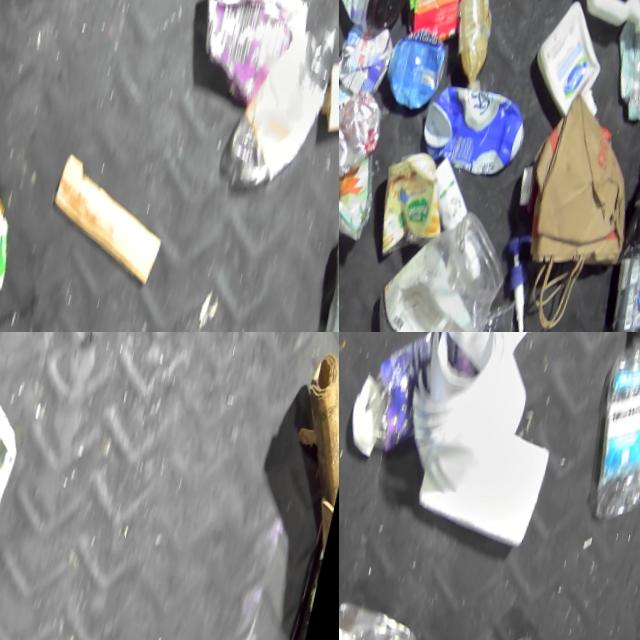can: (381, 25, 452, 116), (339, 88, 388, 181), (339, 47, 390, 99), (320, 224, 339, 332), (498, 627, 570, 640)
milk_jug: (394, 332, 544, 506), (0, 384, 30, 613), (565, 0, 640, 46)
non_white_jug: (416, 81, 534, 183), (0, 122, 37, 301), (387, 0, 481, 43)
plastic_bottle: (583, 332, 640, 527), (339, 593, 459, 640), (603, 189, 640, 332)
